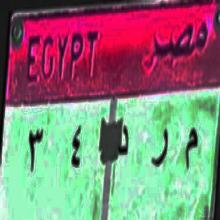3: (27, 126, 44, 177)
4: (69, 122, 83, 175)
daal: (116, 118, 130, 166)
meem: (181, 121, 202, 178)
raa: (149, 117, 170, 173)
